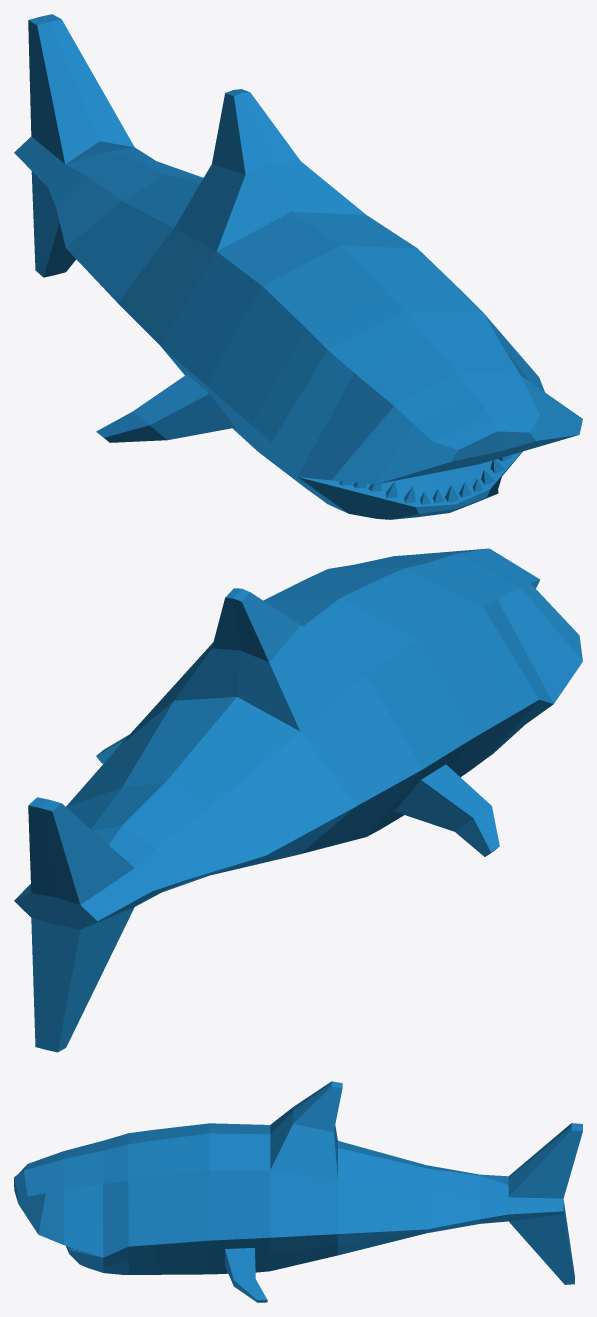
File: Idole_Requin___PRE_ALPHA___.fbx
3 renders of one model, top to bottom at view 1: azimuth 30°, elevation 25°; view 2: azimuth 150°, elevation 25°; view 3: azimuth 270°, elevation 25°, orthographic. The views are drawn at different scales.
Parts seen in each view (by area): view 1: Cube_Cube.002; view 2: Cube_Cube.002; view 3: Cube_Cube.002.
Part boxes in pixels (x1=…): Cube_Cube.002: x1=14, y1=14, x2=582, y2=519; Cube_Cube.002: x1=14, y1=548, x2=582, y2=1052; Cube_Cube.002: x1=14, y1=1081, x2=582, y2=1302.
Size of the model in its own units: 7762 by 5986 by 15521.
